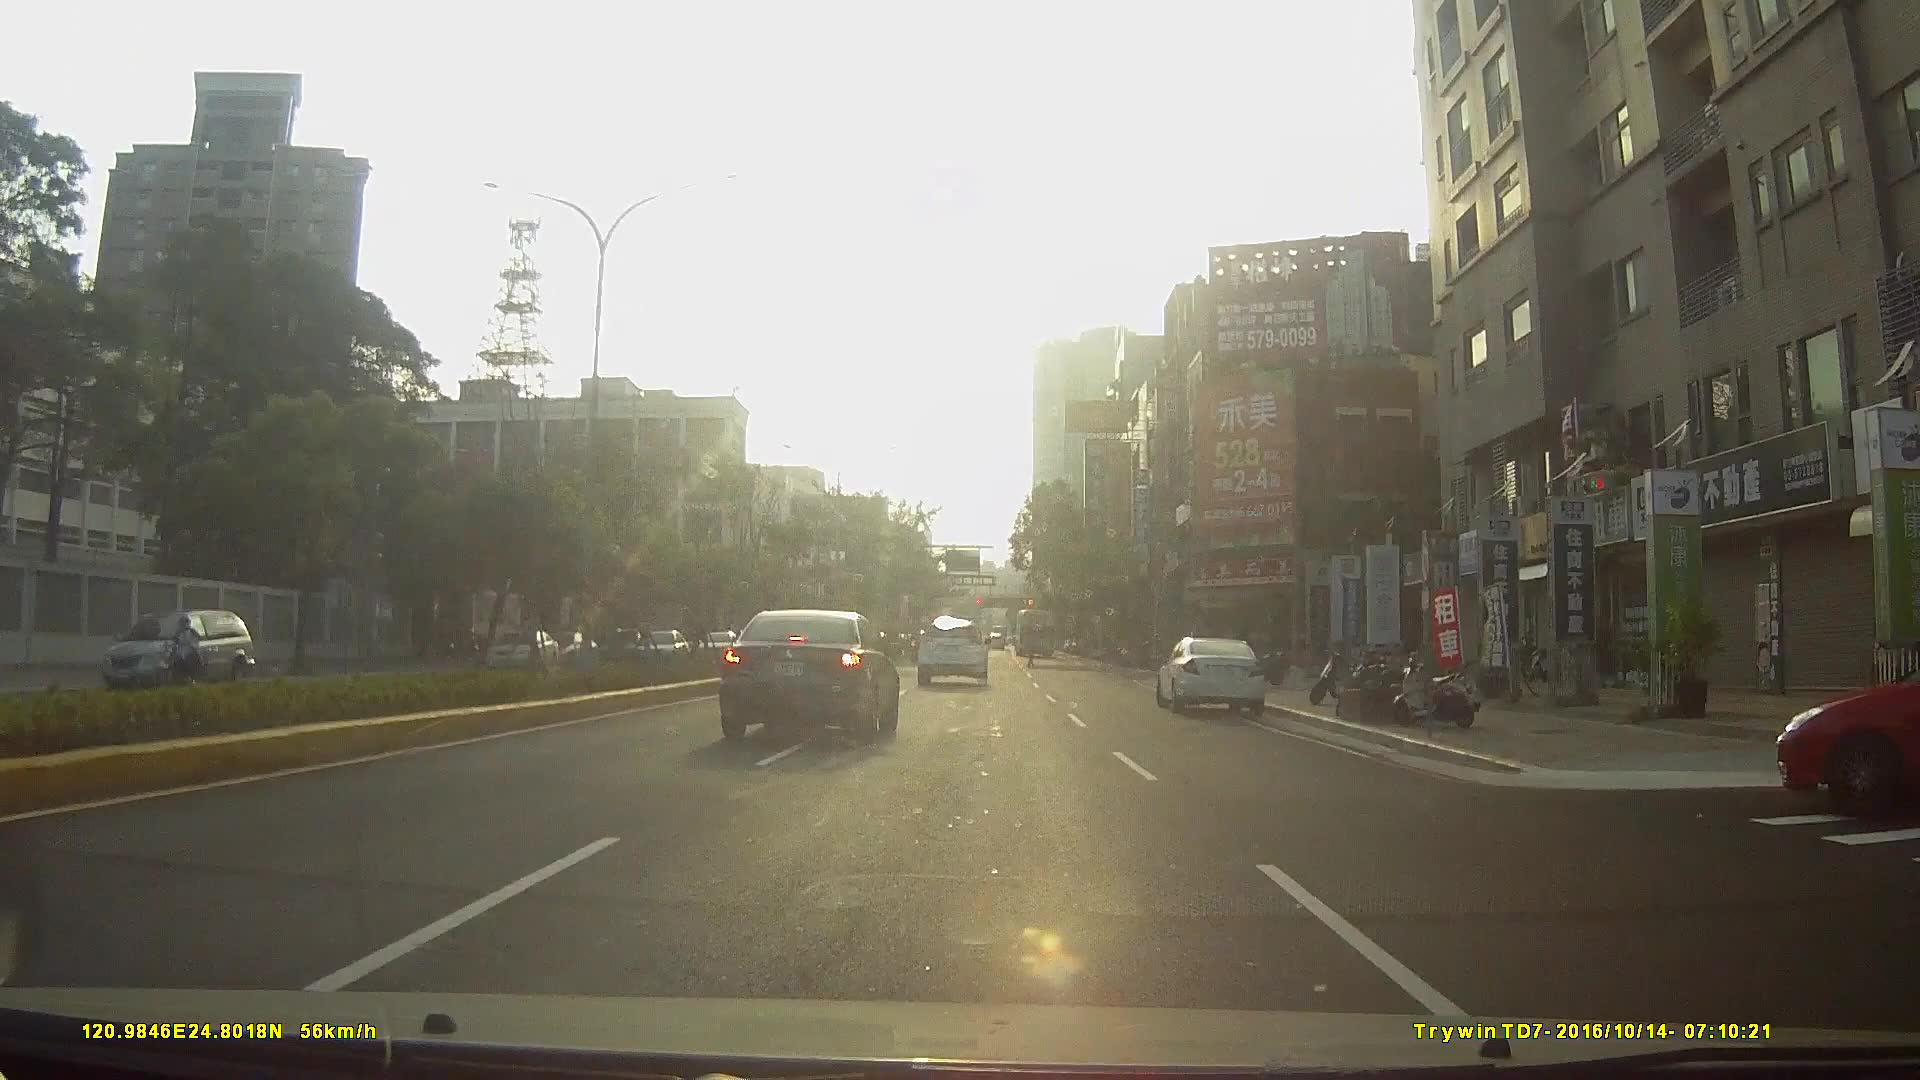rider: (163, 612, 211, 702)
vehicle: (1773, 633, 1920, 812), (720, 605, 903, 742), (99, 606, 264, 700), (1158, 635, 1272, 717), (915, 618, 989, 689), (481, 626, 557, 671), (632, 627, 694, 672), (1010, 608, 1058, 660), (692, 632, 743, 663)
